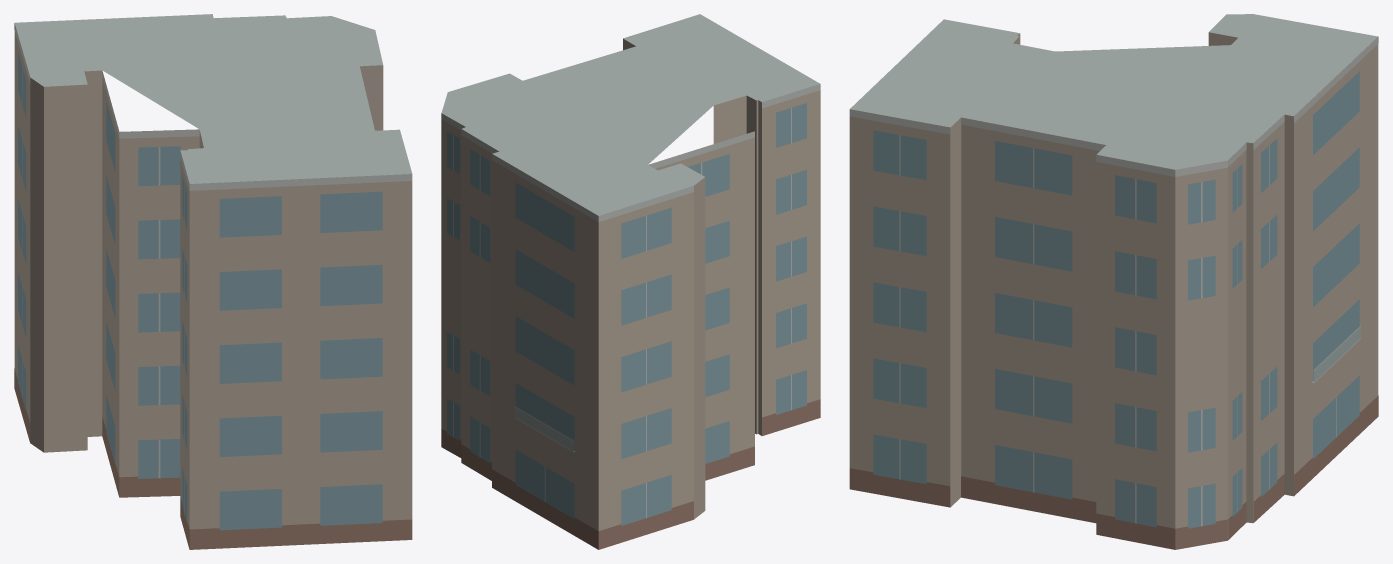
Rendered from survey-upis-32901496.glb.
3 views of the same model, side by side, from view 1: azimuth 30°, elevation 25°; view 2: azimuth 150°, elevation 25°; view 3: azimuth 270°, elevation 25° (orthographic). The views are drawn at different scales.
Visible parts, largest first — view 1: survey-upis-32901496.tmp; view 2: survey-upis-32901496.tmp; view 3: survey-upis-32901496.tmp.
Boxes of the visible parts, <box> form: survey-upis-32901496.tmp: <box>14,14,412,549</box>; survey-upis-32901496.tmp: <box>441,14,820,549</box>; survey-upis-32901496.tmp: <box>849,14,1378,549</box>.
Size of the model in its own units: 11.44 by 13 by 16.4.
